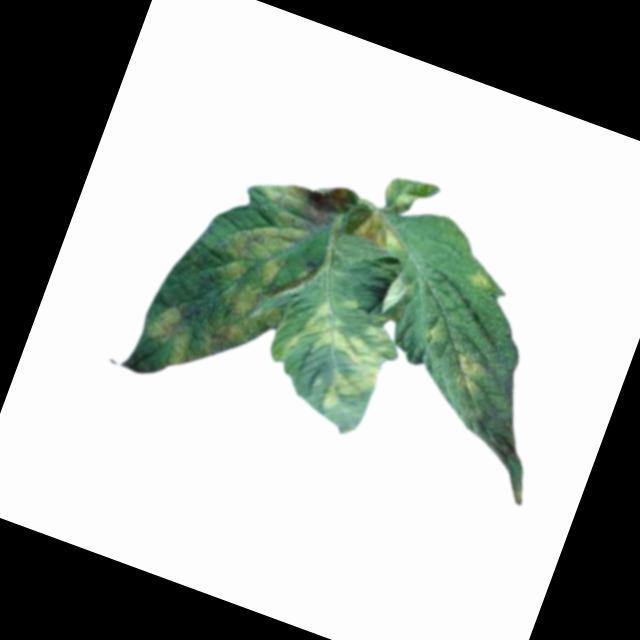Leaf_Mold: (143, 141, 353, 401), (281, 287, 402, 418), (437, 349, 492, 400), (352, 207, 408, 256), (462, 269, 492, 295)
